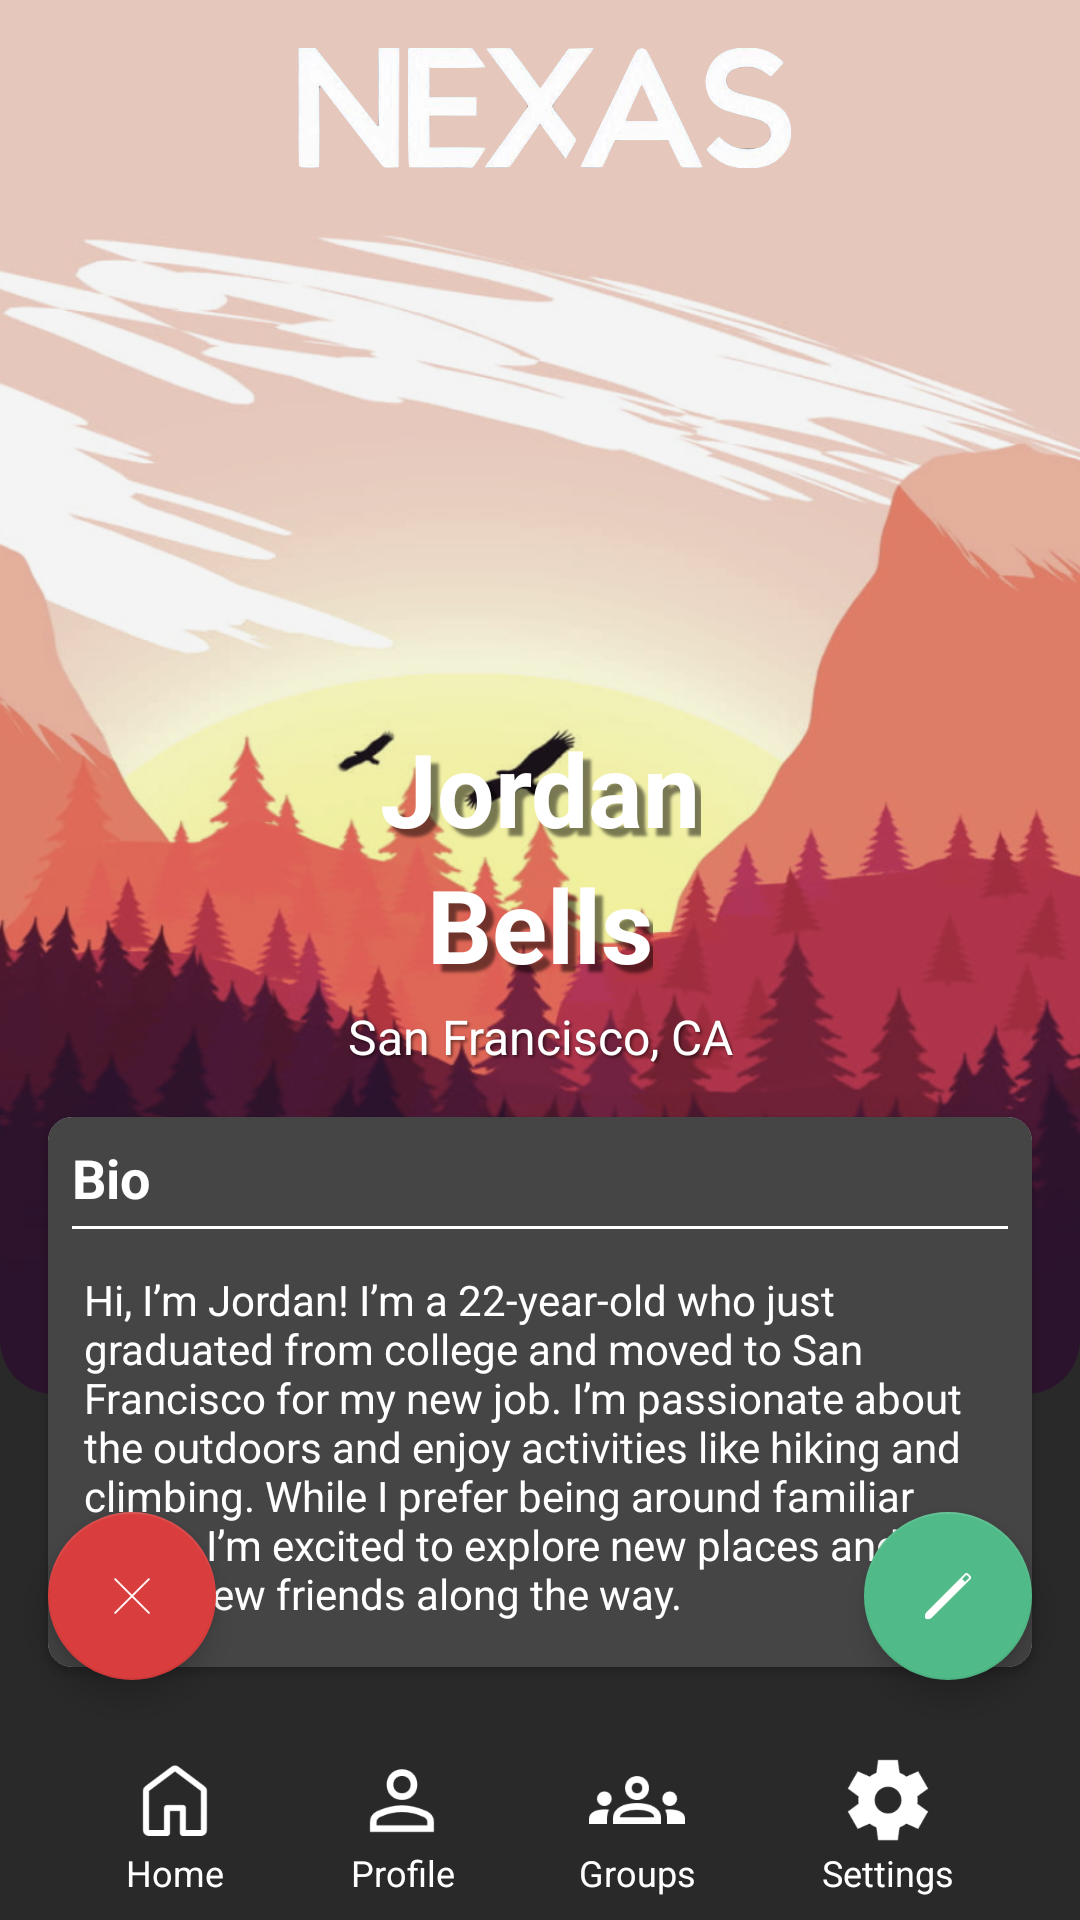

Icons on this 1080 × 1920 Android screen, each with the point to tap as (x=x, y=y):
cancel: (x=132, y=1596)
edit: (x=948, y=1596)
